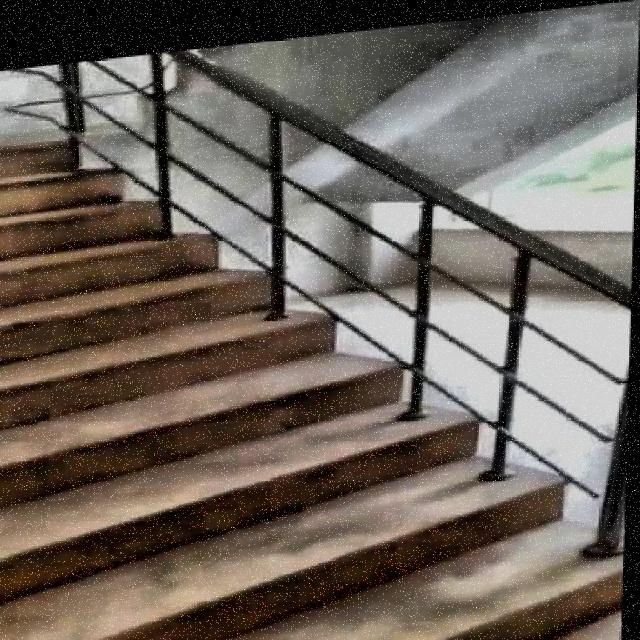stair: (2, 66, 616, 639)
